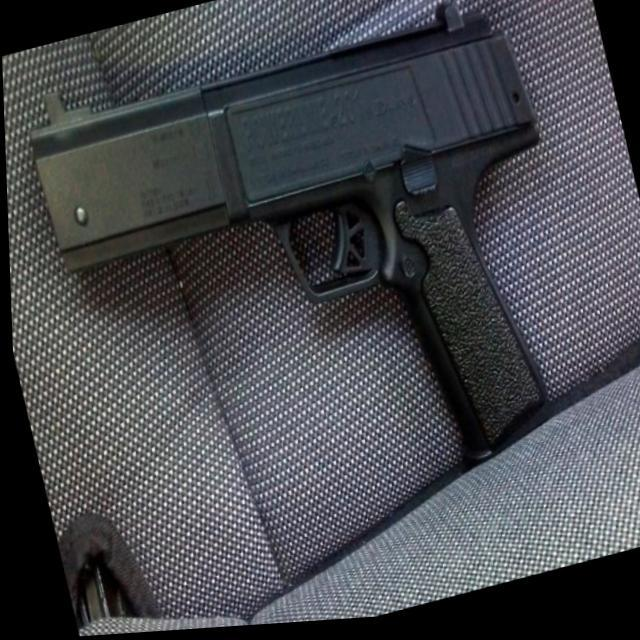weapon: (14, 0, 608, 561)
